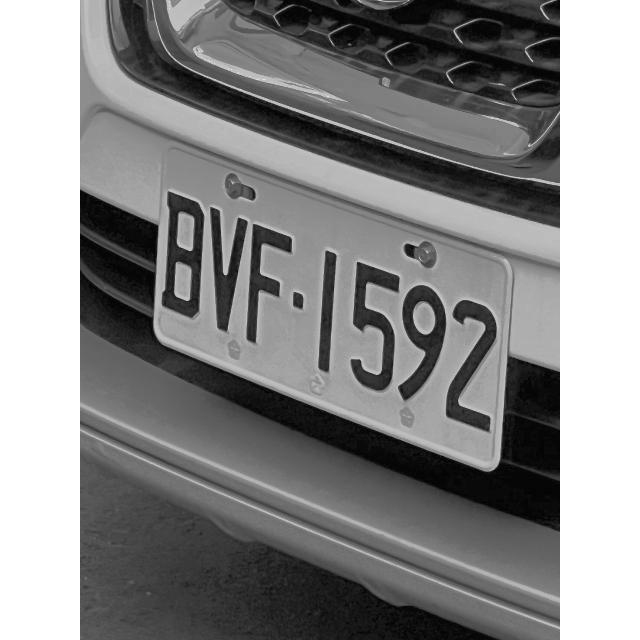-: (283, 280, 310, 323)
1: (305, 240, 346, 386)
2: (440, 290, 505, 445)
5: (344, 255, 404, 404)
9: (393, 274, 455, 423)
B: (158, 187, 208, 329)
F: (239, 217, 301, 359)
V: (199, 199, 252, 339)
